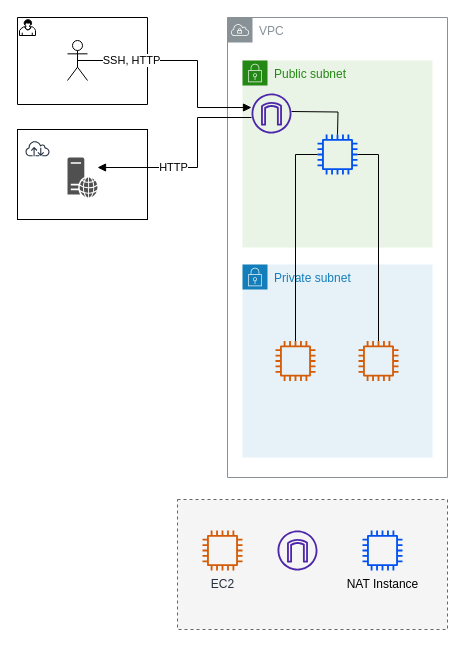
This 465x647 diagram has some shape labels left out. Each missing label, with the centre of its shape:
"Internet Gateway" belongs at point 297,550.
"외부 인터넷 웹서버" belongs at point 82,177.
